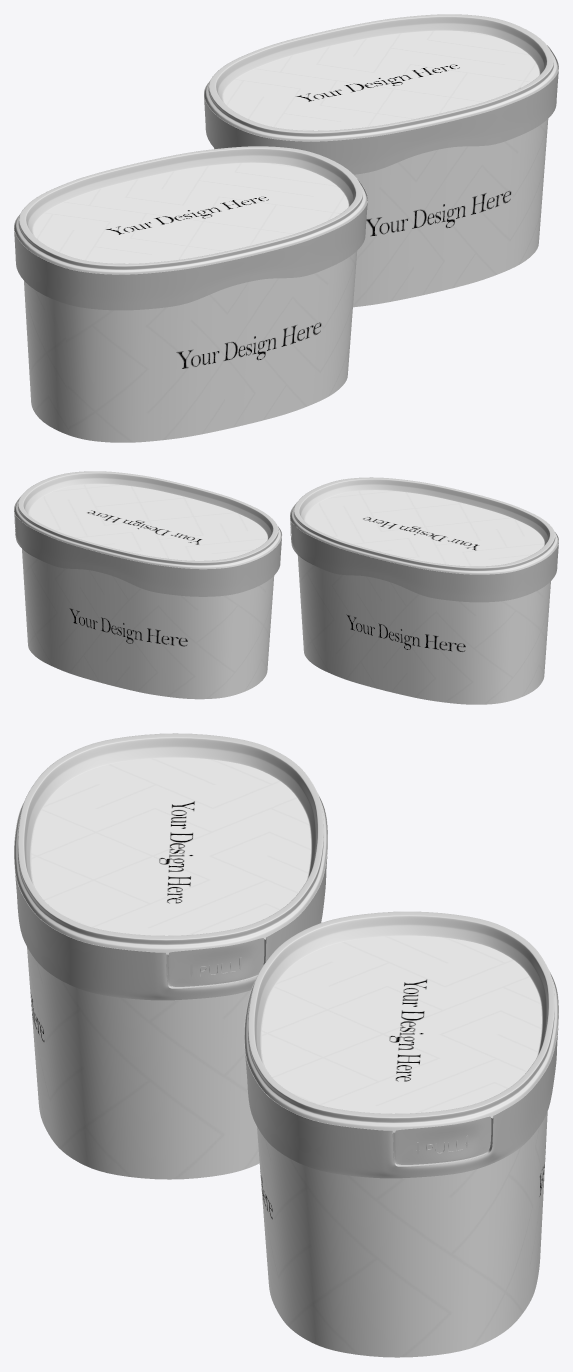
The model's file is oval Angle-2.glb.
3 views of the same model, one above another, from view 1: azimuth 30°, elevation 25°; view 2: azimuth 150°, elevation 25°; view 3: azimuth 270°, elevation 25° (orthographic). The views are drawn at different scales.
Visible parts, largest first — view 1: wrapper, wrapper.001, Bottom.007, Bottom.001, Bottom.009, Bottom.004; view 2: wrapper, wrapper.001, Bottom.007, Bottom.004, Bottom.009, Bottom.001; view 3: wrapper.001, wrapper, Bottom.009, Bottom.001, Bottom.004, Bottom.007.
Part boxes in pixels (bbox=[...]): wrapper: bbox=[24, 162, 357, 442]; wrapper.001: bbox=[214, 30, 548, 307]; Bottom.007: bbox=[14, 177, 367, 310]; Bottom.001: bbox=[204, 14, 558, 141]; Bottom.009: bbox=[14, 146, 367, 274]; Bottom.004: bbox=[204, 45, 558, 174]; wrapper: bbox=[297, 490, 550, 704]; wrapper.001: bbox=[22, 484, 274, 699]; Bottom.007: bbox=[290, 501, 558, 602]; Bottom.004: bbox=[14, 496, 282, 596]; Bottom.009: bbox=[290, 477, 558, 574]; Bottom.001: bbox=[14, 471, 281, 568]; wrapper.001: bbox=[257, 935, 547, 1357]; wrapper: bbox=[27, 757, 310, 1179]; Bottom.009: bbox=[14, 733, 327, 954]; Bottom.001: bbox=[244, 911, 558, 1132]; Bottom.004: bbox=[244, 971, 558, 1178]; Bottom.007: bbox=[14, 794, 327, 1000].
Size of the model in its own units: 0.2562 by 0.0772 by 0.1498.
Materials: 3 (1 with a texture image).
